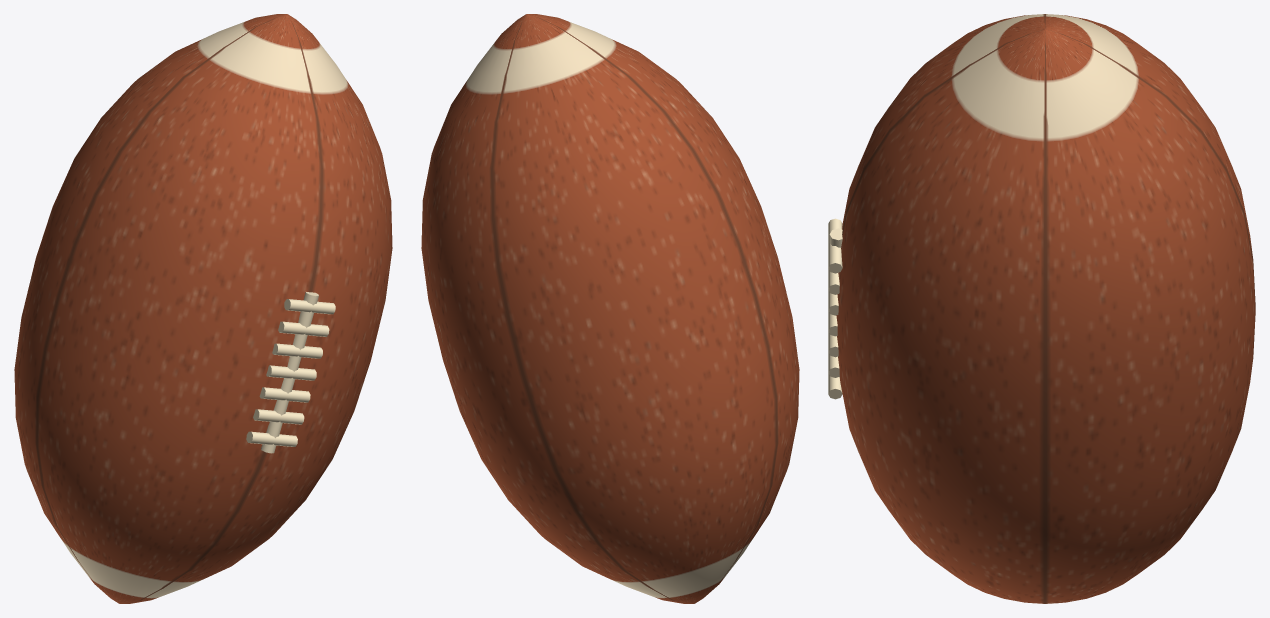
File: rugby.glb
3 renders of one model, left to right at view 1: azimuth 30°, elevation 25°; view 2: azimuth 150°, elevation 25°; view 3: azimuth 270°, elevation 25°, orthographic. The views are drawn at different scales.
Bounding box in the file's own units: 0.635 × 1 × 0.589.
2 materials, 1 textured.
